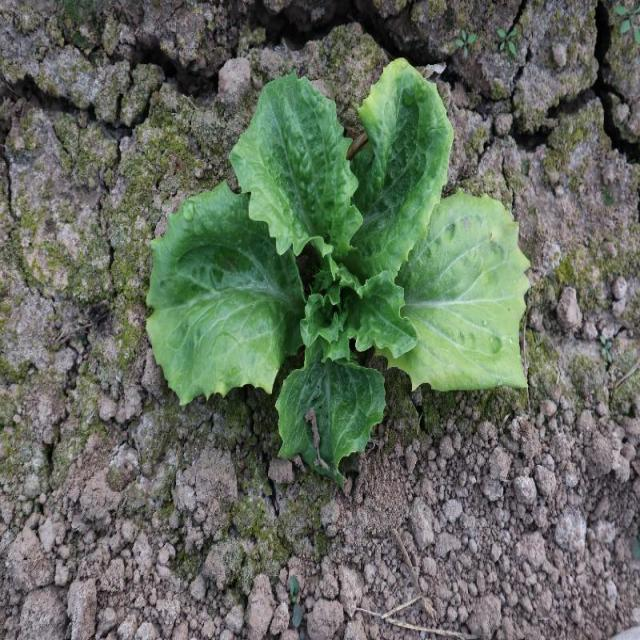crop: (143, 58, 536, 492)
